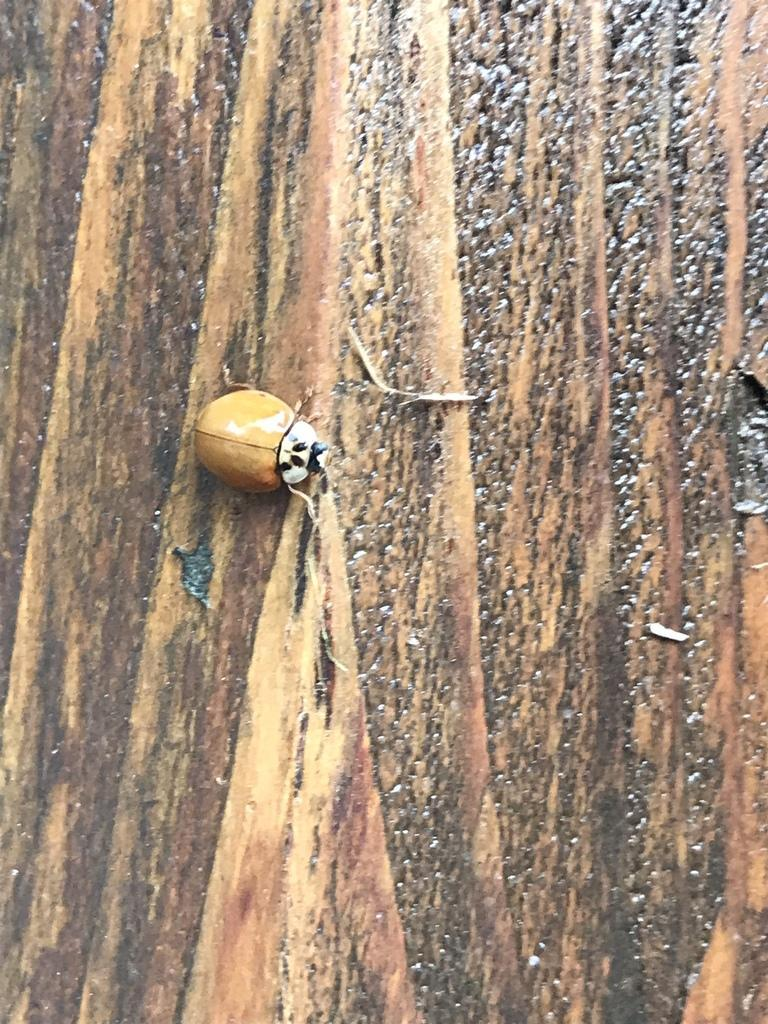ladybug: (191, 361, 336, 534)
